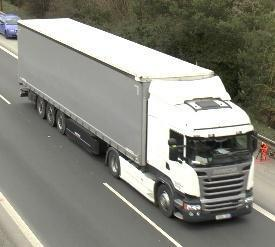car: (0, 12, 20, 39)
truck: (17, 19, 257, 223)
